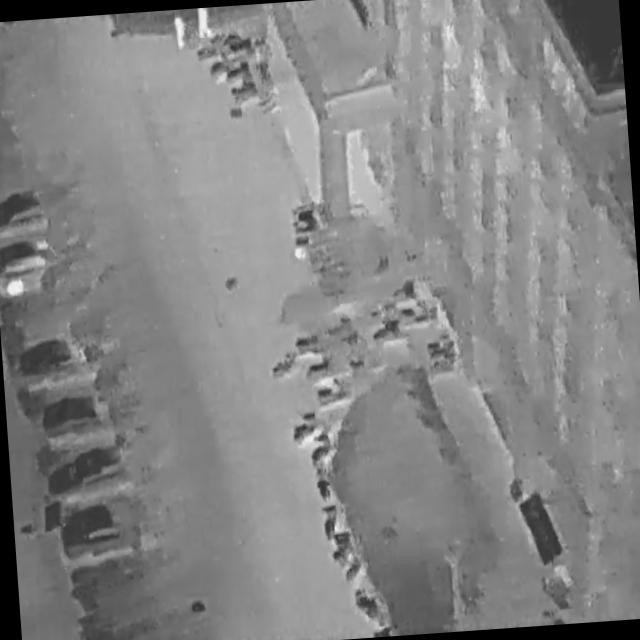person: (196, 8, 214, 41), (175, 14, 189, 51)
